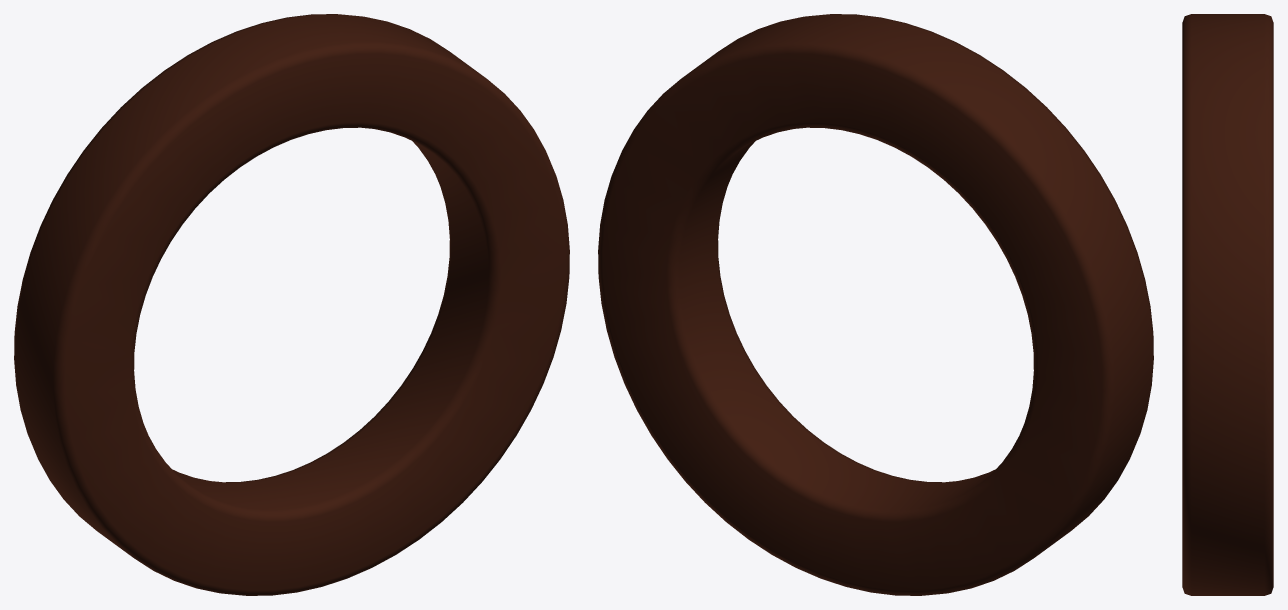
File: GearBigHoop.obj
3 views of the same model, side by side, from view 1: azimuth 30°, elevation 25°; view 2: azimuth 150°, elevation 25°; view 3: azimuth 270°, elevation 25° (orthographic). The views are drawn at different scales.
Parts seen in each view (by area): view 1: WheelLargeRim1 WheelLarge1 Gear1 IslandCloudFactory1 Archipelago; view 2: WheelLargeRim1 WheelLarge1 Gear1 IslandCloudFactory1 Archipelago; view 3: WheelLargeRim1 WheelLarge1 Gear1 IslandCloudFactory1 Archipelago.
Part boxes in pixels (x1,y1,x2,y2): WheelLargeRim1 WheelLarge1 Gear1 IslandCloudFactory1 Archipelago: (14,14,569,595); WheelLargeRim1 WheelLarge1 Gear1 IslandCloudFactory1 Archipelago: (598,14,1153,595); WheelLargeRim1 WheelLarge1 Gear1 IslandCloudFactory1 Archipelago: (1182,14,1273,595).
Size of the model in its own units: 40.66 by 40.66 by 6.38.
